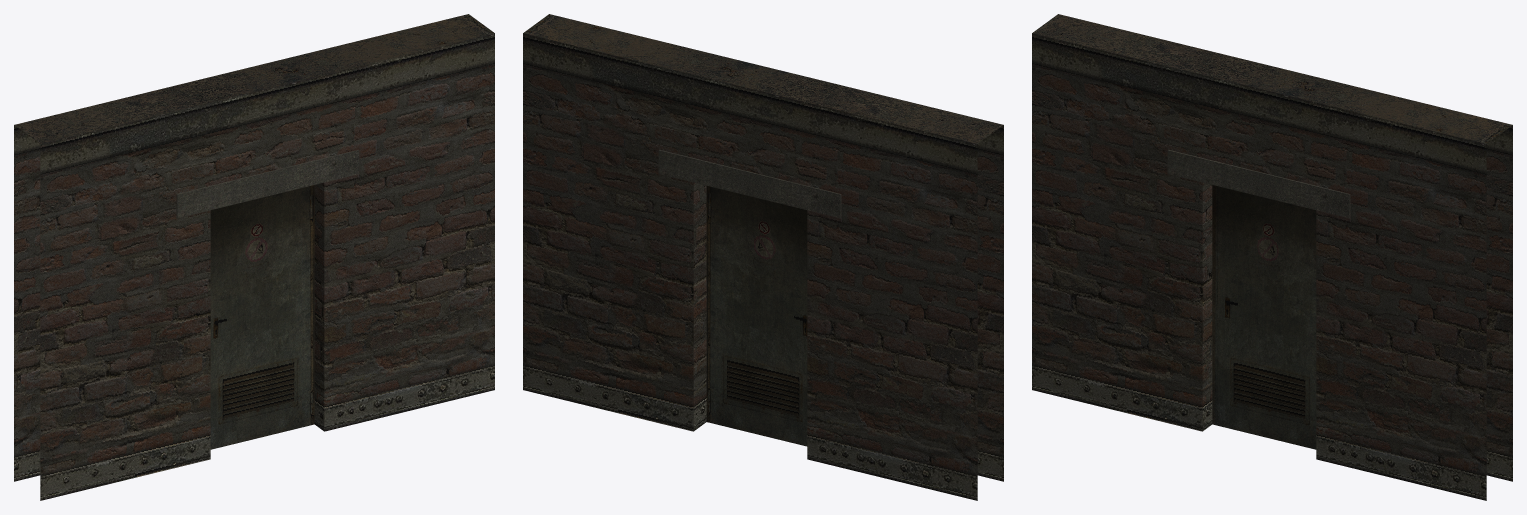
The model's file is doorway_hr_1.glb.
3 renders of one model, left to right at view 1: azimuth 30°, elevation 25°; view 2: azimuth 150°, elevation 25°; view 3: azimuth 330°, elevation 25°, orthographic.
Parts seen in each view (by area): view 1: doorway_hr_1, metal_door_1; view 2: doorway_hr_1, metal_door_1; view 3: doorway_hr_1, metal_door_1.
Part boxes in pixels (left/top/right/bottom): doorway_hr_1: left=14, top=14, right=494, bottom=500; metal_door_1: left=210, top=185, right=314, bottom=449; doorway_hr_1: left=523, top=14, right=1003, bottom=500; metal_door_1: left=706, top=186, right=807, bottom=446; doorway_hr_1: left=1032, top=14, right=1512, bottom=500; metal_door_1: left=1212, top=185, right=1316, bottom=449.
Bounding box in the file's own units: 4 × 3 × 0.42.
Materials: 4 (4 with a texture image).
